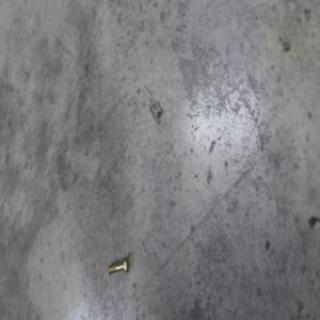Bolttrack_idkeyframe: (106, 254, 130, 274)
